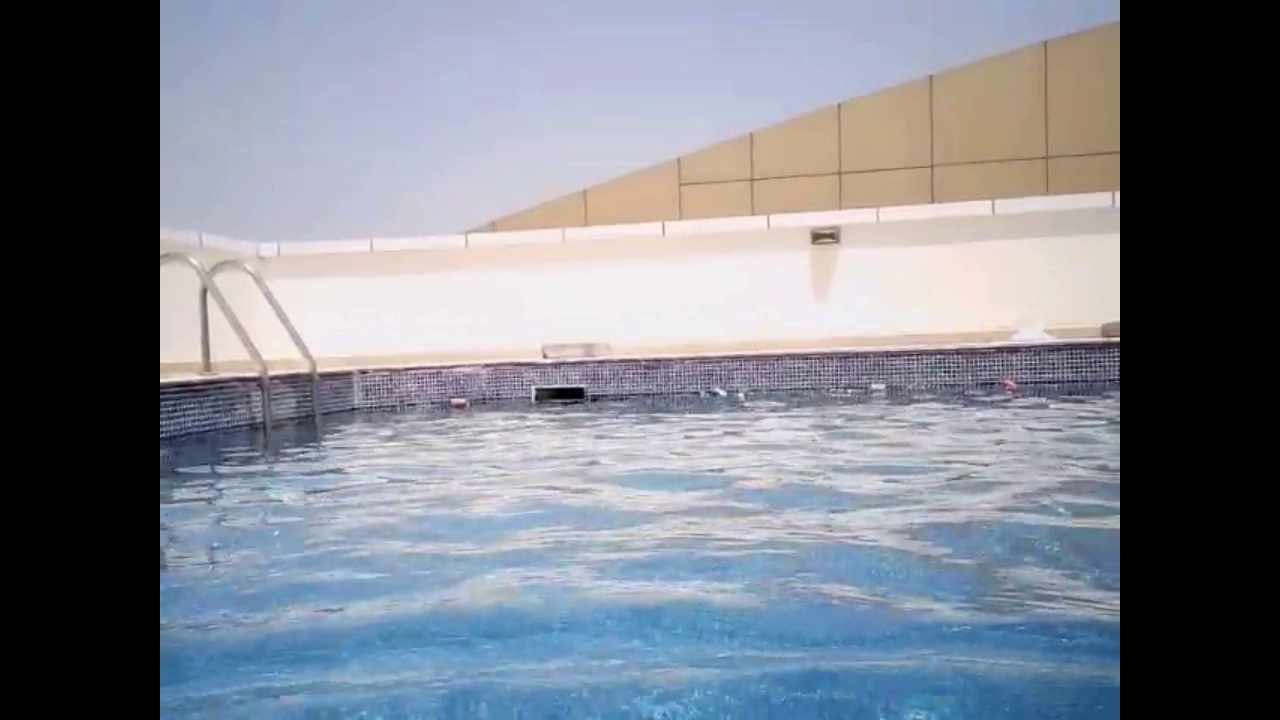debris: (442, 392, 472, 414), (991, 376, 1018, 400), (862, 378, 890, 399), (702, 383, 731, 403), (730, 387, 750, 409)
